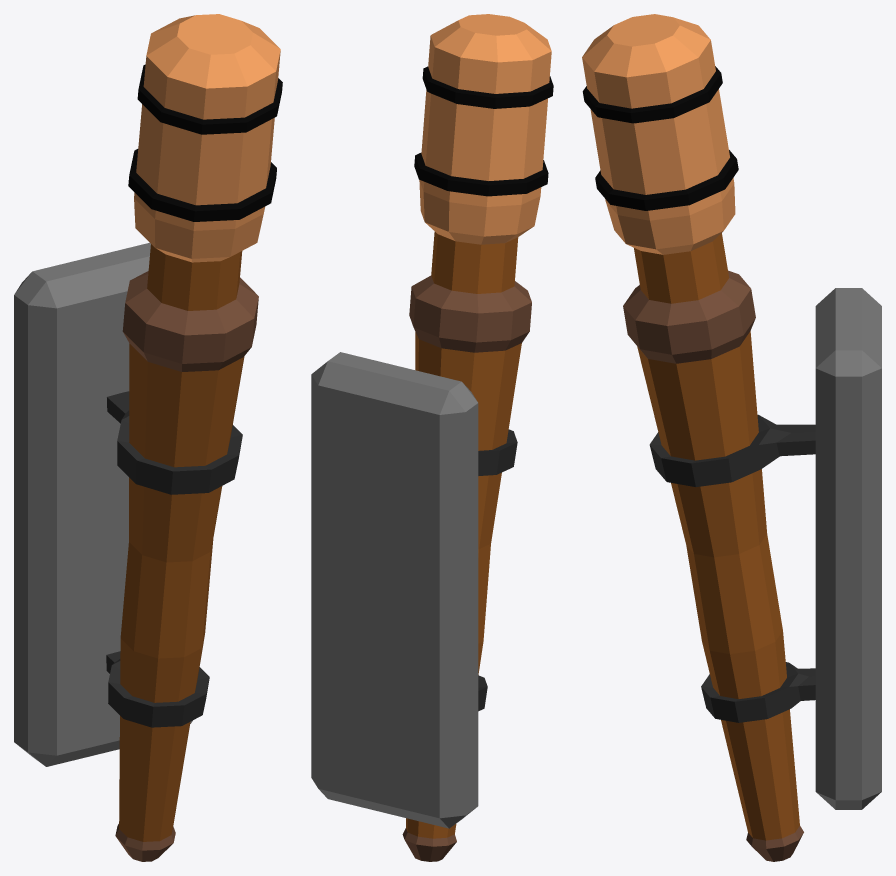
The model's file is WallTorch.fbx.
The picture shows the model from 3 angles, left to right: view 1: azimuth 30°, elevation 25°; view 2: azimuth 150°, elevation 25°; view 3: azimuth 270°, elevation 25°; orthographic projection. The views are drawn at different scales.
Parts seen in each view (by area): view 1: WallTorch; view 2: WallTorch; view 3: WallTorch.
Part boxes in pixels (x1,y1,x2,y2): WallTorch: (14,14,282,861); WallTorch: (311,14,553,861); WallTorch: (582,14,881,861).
Bounding box in the file's own units: 9.41 × 46.12 × 15.07.
Materials: 1 (1 with a texture image).
